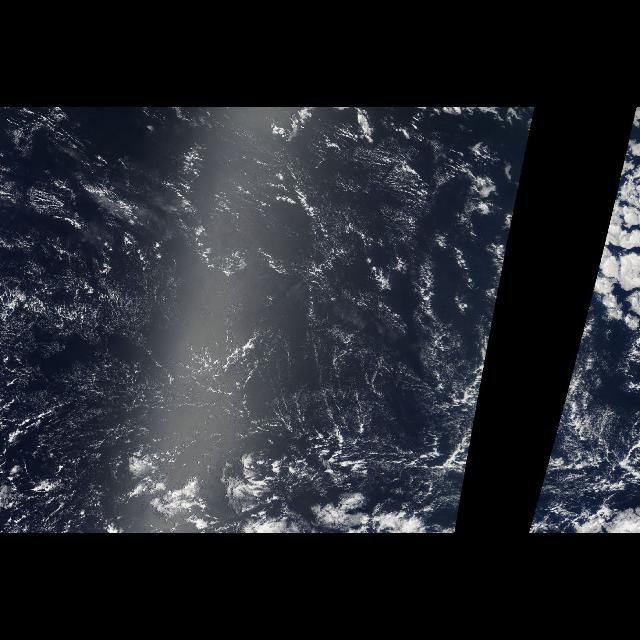Sugar: (1, 108, 466, 450)
